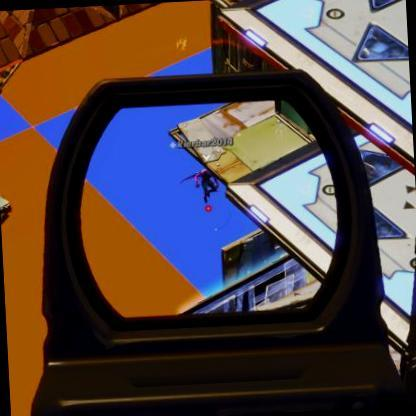person: (199, 161, 214, 208)
